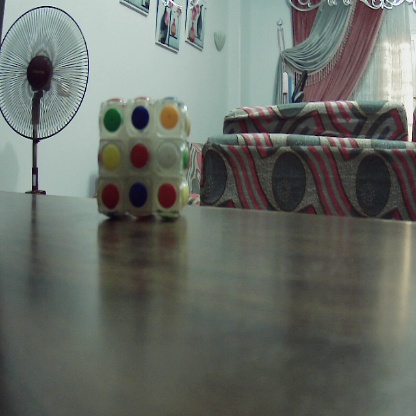Rubix Cube: (96, 97, 192, 222)
